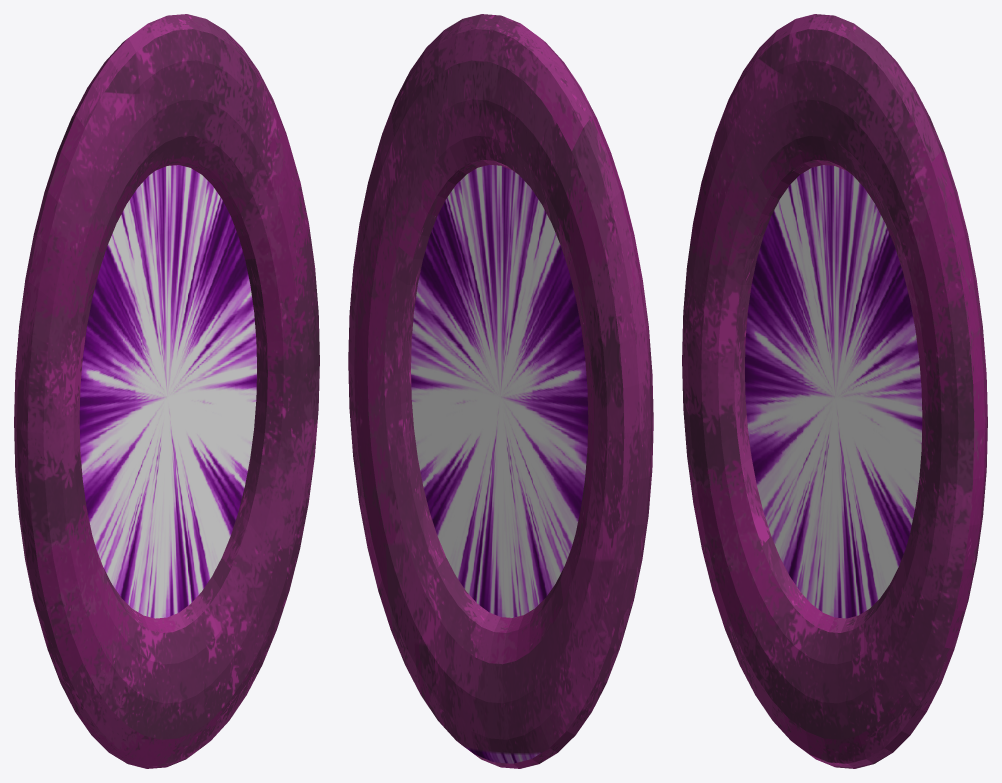
File: warp.obj
3 views of the same model, side by side, from view 1: azimuth 30°, elevation 25°; view 2: azimuth 150°, elevation 25°; view 3: azimuth 330°, elevation 25° (orthographic).
Visible parts, largest first — view 1: トーラス; view 2: トーラス; view 3: トーラス.
Boxes of the visible parts, x1,y1,x2,y2 form: トーラス: (14, 14, 319, 768); トーラス: (348, 14, 653, 768); トーラス: (682, 14, 987, 768).
Bounding box in the file's own units: 4.2 × 10.04 × 0.6697.
Materials: 1 (1 with a texture image).
